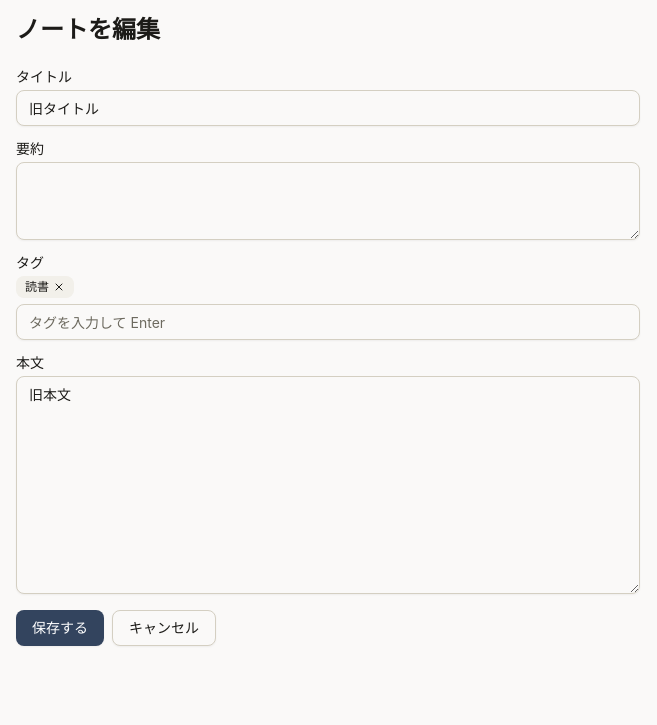
NoteEditPage › 保存エラー時はバナーを表示する
Expected: the field showing "旧タイトル" is shown, [16,90,640,126]
Click the button "保存する" at [60, 628], box [16,610,104,646]
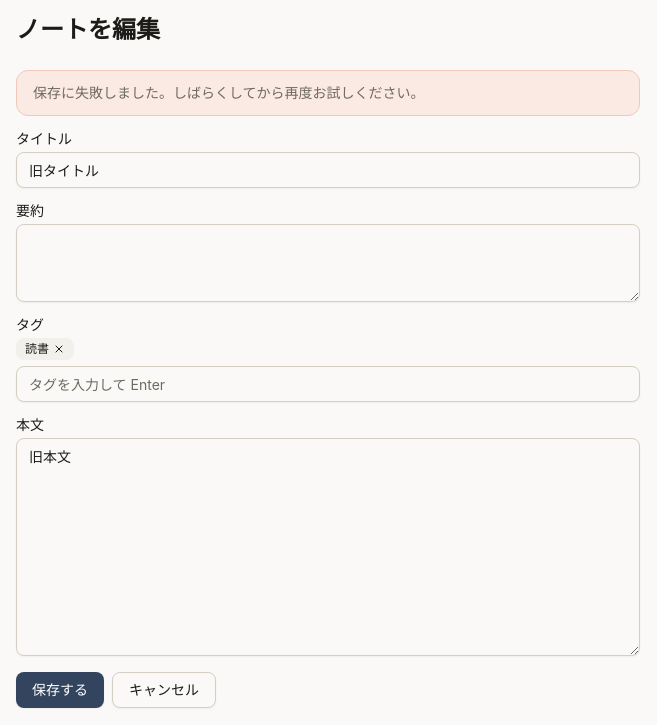
Expected: the text "保存に失敗しました。しばらくしてから再度お試しください。" is shown, [33,84,425,101]
